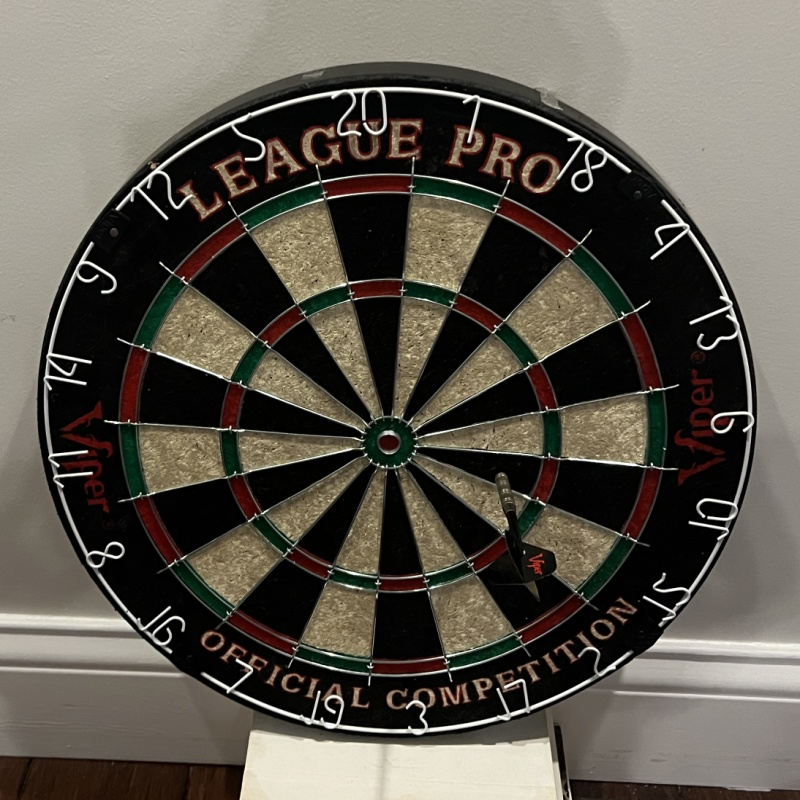dart: (492, 466, 513, 489)
eleven: (46, 447, 95, 488)
six: (708, 409, 756, 435)
three: (407, 699, 427, 734)
twenty: (330, 87, 387, 138)
